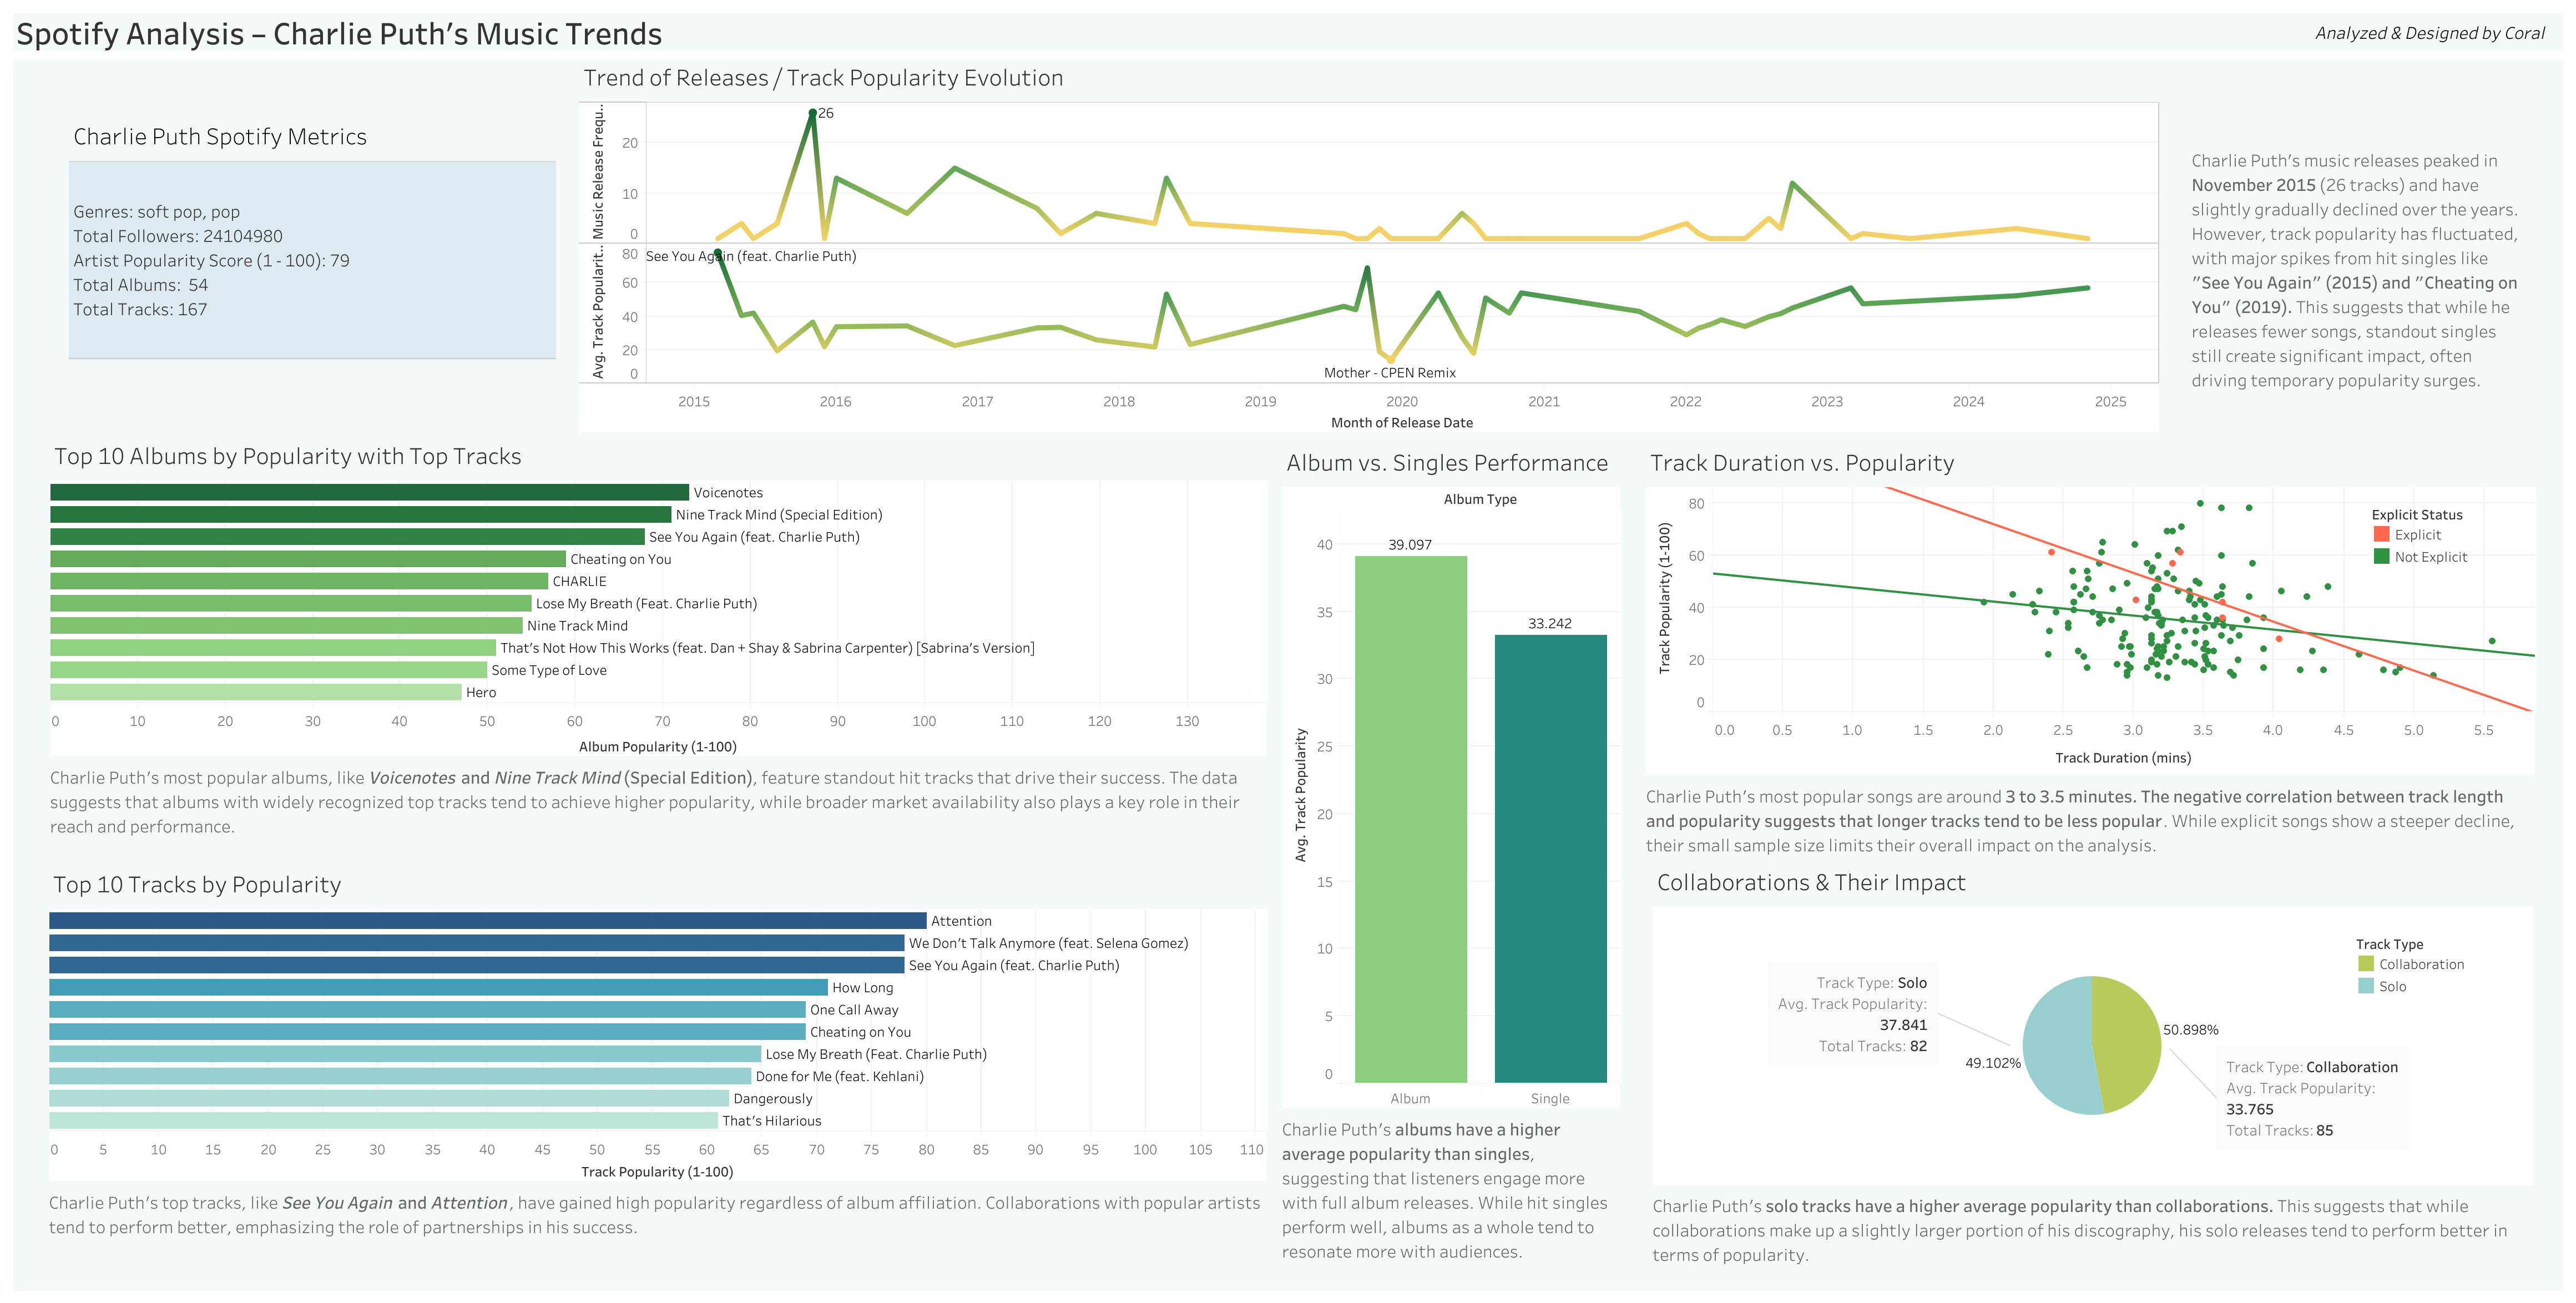

The page's visual inventory and layout, read from the dashboard file:
{"tool":"tableau","page":{"name":"Spotify Analysis – Charlie Puth’s Music Trends","canvas":[1600,900],"ordinal":0},"visuals":[{"type":"title","box":[8,8,1584,37]},{"type":"text","box":[1392,13,188,30]},{"type":"worksheet","title":"Trend of Releases / Track Popularity Evolution","mark":"Line","rows":["track_id","track_popularity"],"cols":["release_date"],"box":[378,51,963,248]},{"type":"worksheet","title":"Metrics","mark":"Text","rows":["artist_name"],"box":[43,78,302,170]},{"type":"text","box":[1357,81,209,235]},{"type":"worksheet","title":"Top 10 Albums by Popularity with Top Tracks","mark":"Automatic","rows":["album_name"],"cols":["album_popularity"],"box":[31,299,755,289]},{"type":"worksheet","title":"Album vs. Singles Performance","mark":"Automatic","rows":["track_popularity"],"cols":["album_type"],"box":[796,299,210,573]},{"type":"worksheet","title":"Track Duration vs. Popularity","mark":"Circle","rows":["track_popularity"],"cols":["Calculation_1055580171927737"],"box":[1022,299,552,292]},{"type":"legend","title":"Track Duration vs. Popularity","param":"[federated.0477bva0jh4sv7185qlpe06nu472].[none:Calculation_1055580139765939:nk]","box":[1472,346,109,61]},{"type":"worksheet","title":"Collaborations & Their Impact","mark":"Pie","box":[1026,593,546,281]},{"type":"worksheet","title":"Top 10 Tracks by Popularity","mark":"Automatic","rows":["track_id"],"cols":["track_popularity"],"box":[30,594,756,276]},{"type":"legend","title":"Collaborations & Their Impact","param":"[federated.0477bva0jh4sv7185qlpe06nu472].[none:Calculation_1055580176875706:nk]","box":[1462,643,118,53]}]}

Visuals, with their boxes on the page's 1600x900 design canvas (x1, y1, x2, y2). These are canvas units, not pixel positions in the 2576x1303 screenshot, which may show the page scaled, cropped or inside an application window:
title: bbox=[8, 8, 1592, 45]
text: bbox=[1392, 13, 1580, 43]
"Trend of Releases / Track Popularity Evolution" worksheet (Line marks): bbox=[378, 51, 1341, 299]
"Metrics" worksheet (Text marks): bbox=[43, 78, 345, 248]
text: bbox=[1357, 81, 1566, 316]
"Top 10 Albums by Popularity with Top Tracks" worksheet: bbox=[31, 299, 786, 588]
"Album vs. Singles Performance" worksheet: bbox=[796, 299, 1006, 872]
"Track Duration vs. Popularity" worksheet (Circle marks): bbox=[1022, 299, 1574, 591]
"Track Duration vs. Popularity" legend: bbox=[1472, 346, 1581, 407]
"Collaborations & Their Impact" worksheet (Pie marks): bbox=[1026, 593, 1572, 874]
"Top 10 Tracks by Popularity" worksheet: bbox=[30, 594, 786, 870]
"Collaborations & Their Impact" legend: bbox=[1462, 643, 1580, 696]
